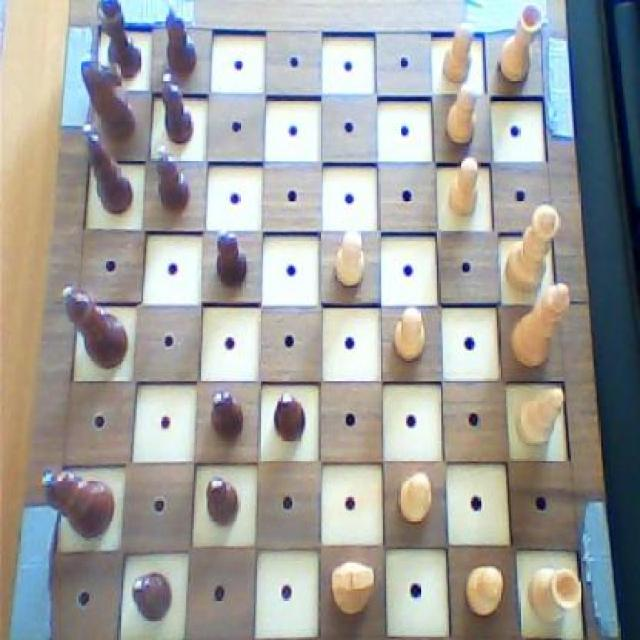bishop: (80, 119, 136, 218)
black-bishop: (40, 463, 115, 544)
black-king: (78, 52, 142, 150)
black-knight: (160, 0, 200, 82), (152, 140, 193, 215), (160, 69, 197, 149), (129, 569, 173, 624), (214, 225, 251, 289), (203, 472, 242, 531), (269, 386, 309, 443), (207, 388, 246, 443)
black-pawn: (62, 282, 129, 376)
black-rook: (514, 383, 572, 456)
white-bishop: (511, 279, 572, 373)
white-knight: (444, 151, 484, 222), (462, 560, 508, 621), (438, 18, 478, 84), (331, 223, 367, 295), (443, 78, 478, 148), (394, 469, 435, 528), (390, 303, 428, 364)
white-pawn: (503, 200, 562, 299)
white-queen: (494, 2, 547, 86), (521, 565, 584, 626), (94, 0, 143, 78)
